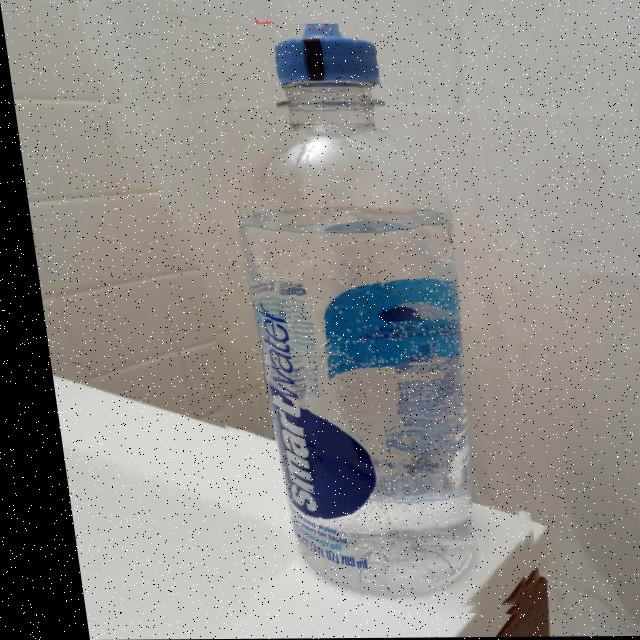plasticbottle: (168, 23, 530, 615)
plasticbottlecap: (173, 4, 430, 133)
